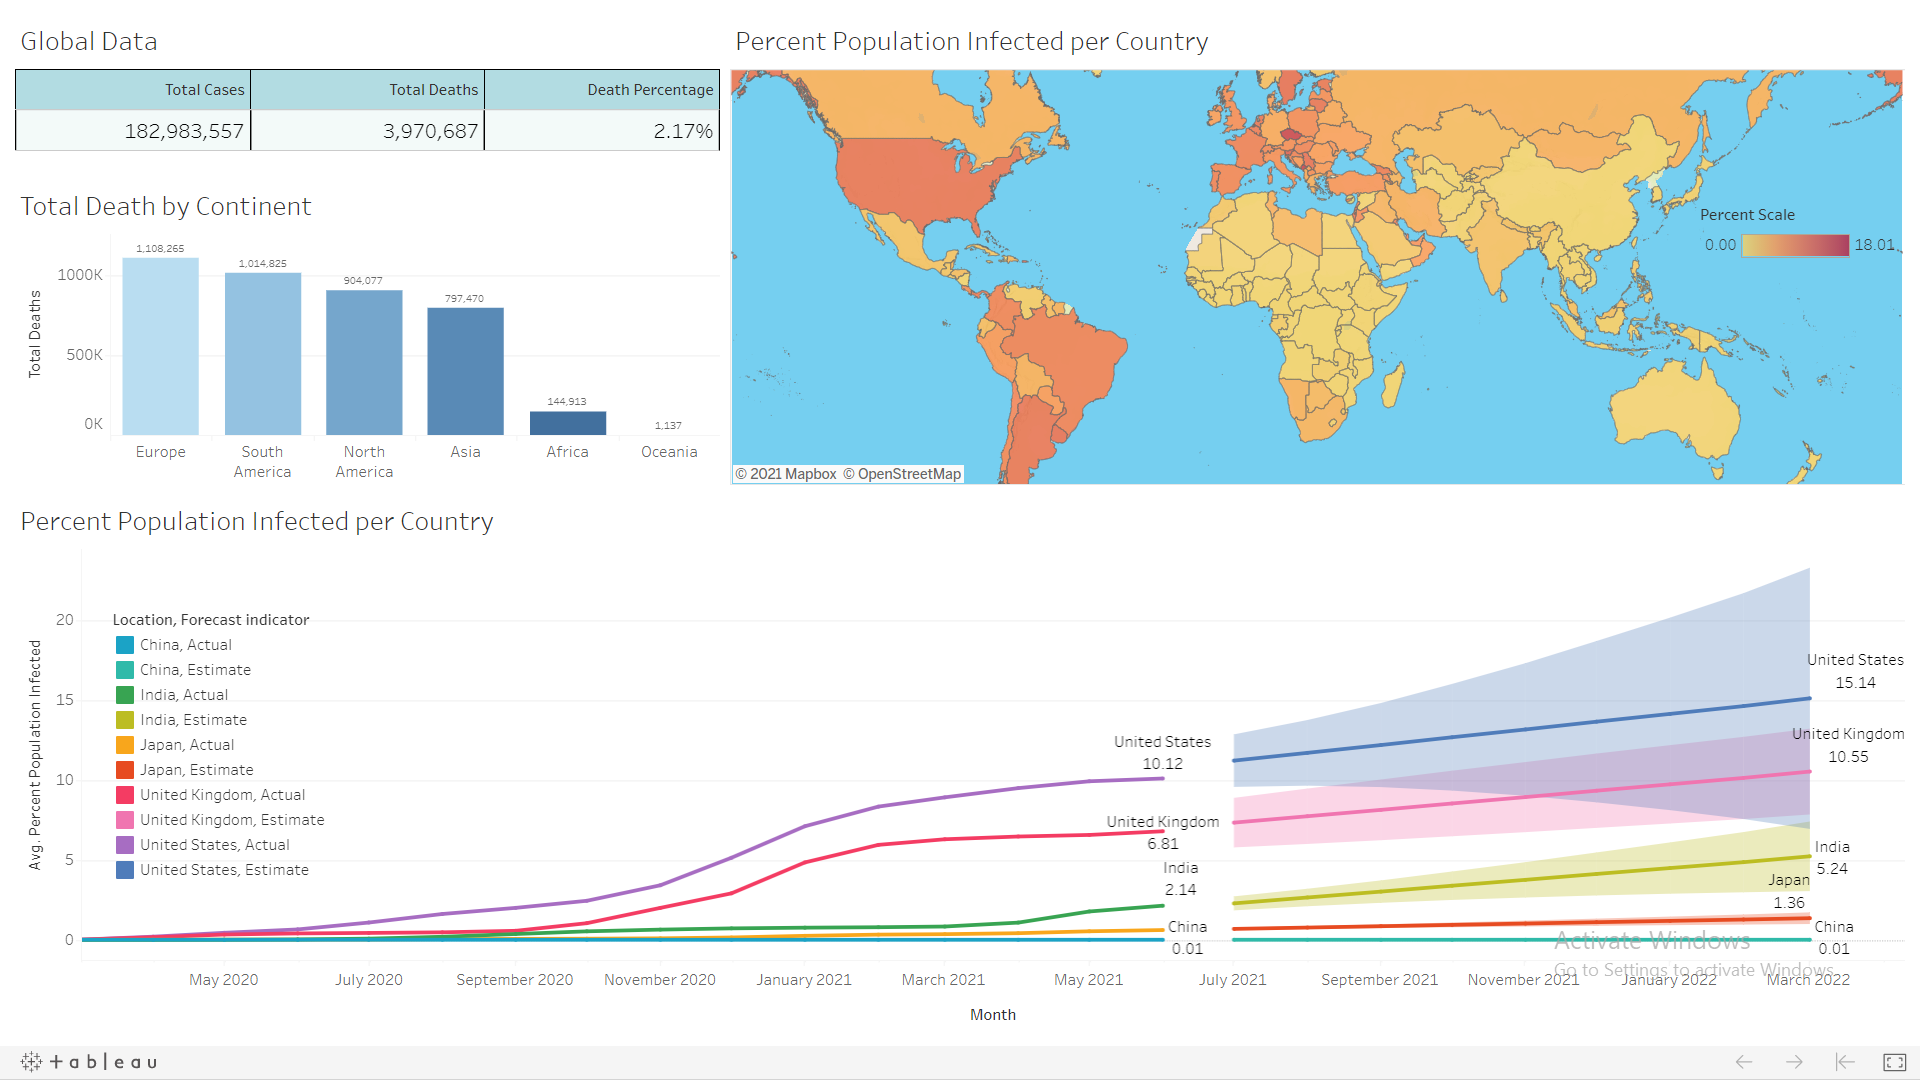

The dashboard page shown, as its layout file describes it:
{"tool":"tableau","page":{"name":"Dashboard 1","canvas":[1000,1000],"units":"permille","ordinal":0},"visuals":[{"type":"worksheet","title":"Global Data","mark":"Automatic","box":[4.8,9.3,372.4,157.5]},{"type":"worksheet","title":"Infected Percent by Country","mark":"Automatic","box":[377.2,9.3,618,458.8]},{"type":"worksheet","title":"Death Data by Continent","mark":"Bar","rows":["TotalDeathCount"],"cols":["location"],"box":[4.8,166.8,372.4,301.3]},{"type":"legend","title":"Infected Percent by Country","param":"[federated.1gf33x70daou7a17ig78r1xl954k].[sum:PercentPopulationInfected:qk]","box":[885.3,195.1,105,74.3]},{"type":"worksheet","title":"Infected Percent of 5 Country","mark":"Automatic","rows":["PercentPopulationInfected"],"cols":["date"],"box":[4.8,468.1,990.3,522.6]},{"type":"legend","title":"Infected Percent of 5 Country","param":"[federated.1ty4p201jr5oxv15ynqhq068kqaq].[none:Location:nk]\n[federated.1ty4p201j","box":[58.5,581.9,127.9,269.4]}]}

Visuals, with their boxes on the dashboard's canvas, which has no fixed pixel size, in thousandths of its width and height (x1, y1, x2, y2). These are canvas units, not pixel positions in the 1920x1080 screenshot, which may show the page scaled, cropped or inside an application window:
"Global Data" worksheet: [5,9,377,167]
"Infected Percent by Country" worksheet: [377,9,995,468]
"Death Data by Continent" worksheet (Bar marks): [5,167,377,468]
"Infected Percent by Country" legend: [885,195,990,269]
"Infected Percent of 5 Country" worksheet: [5,468,995,991]
"Infected Percent of 5 Country" legend: [58,582,186,851]
